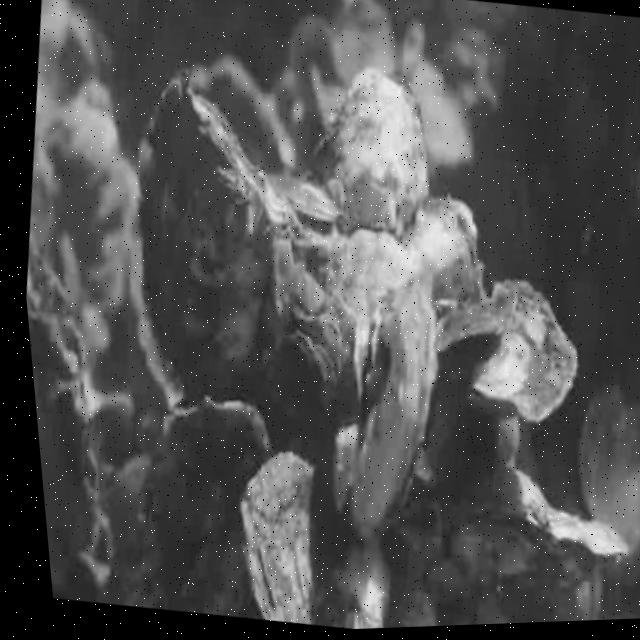Oyster-Closed: (277, 322, 346, 434), (530, 512, 634, 572), (355, 310, 388, 410), (502, 153, 534, 244)
Oyster-Indeterminate: (140, 72, 312, 400), (26, 237, 111, 603), (346, 281, 436, 537), (322, 69, 431, 236), (159, 398, 270, 543), (242, 454, 332, 626), (474, 280, 579, 426), (305, 231, 425, 328), (191, 61, 283, 169), (403, 196, 487, 304), (427, 398, 522, 483), (408, 56, 472, 166), (448, 472, 550, 536), (334, 1, 397, 86), (452, 527, 535, 582), (436, 312, 501, 366), (270, 172, 337, 224), (290, 18, 337, 82), (558, 571, 603, 621), (394, 22, 424, 83), (306, 66, 327, 136)
